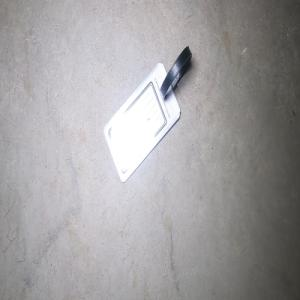LuggageTag: (102, 44, 192, 184)
